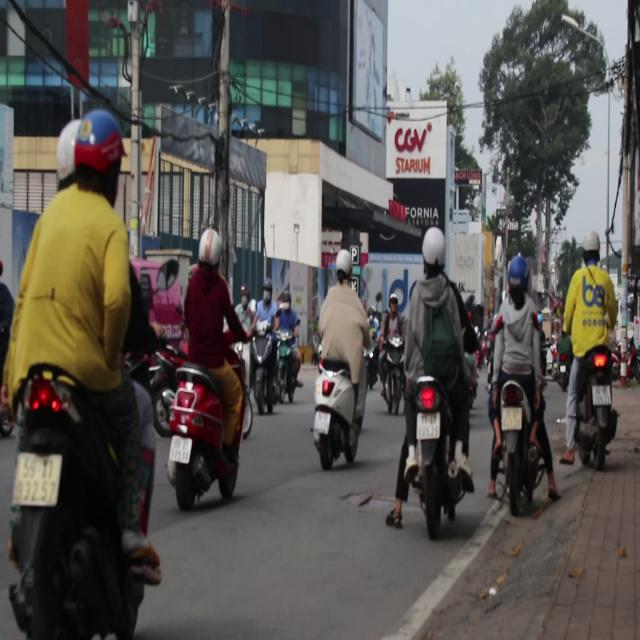motorbike: (13, 356, 163, 636), (151, 340, 247, 511), (388, 374, 470, 538), (305, 344, 361, 482), (571, 335, 623, 473), (493, 376, 544, 515), (249, 325, 282, 415), (280, 329, 300, 411)
